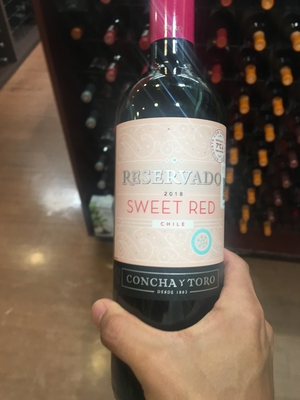reservado sweet red: (100, 12, 255, 400)
